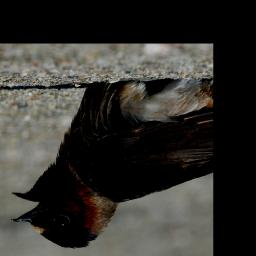Swallow: (8, 75, 213, 249)
